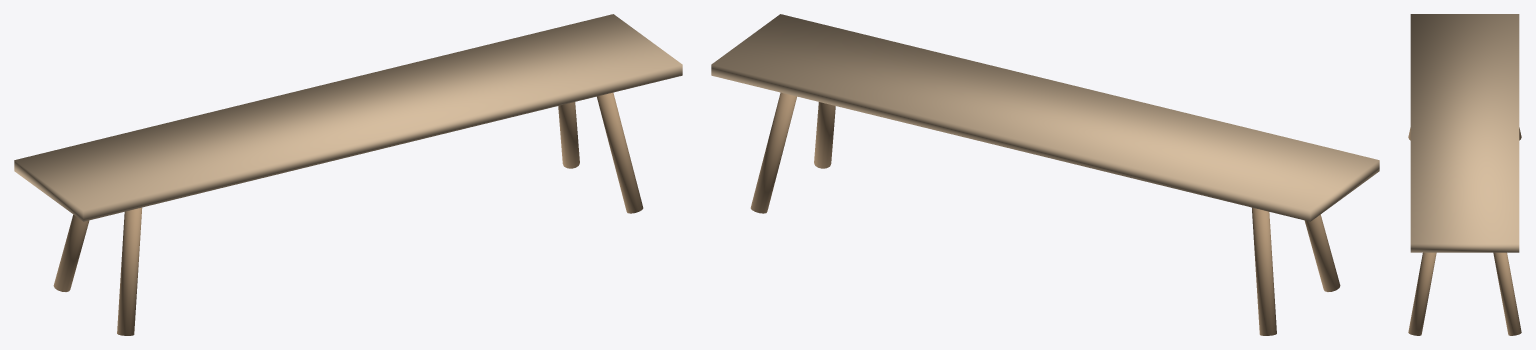
Rendered from bench_long.glb.
3 views of the same model, side by side, from view 1: azimuth 30°, elevation 25°; view 2: azimuth 150°, elevation 25°; view 3: azimuth 270°, elevation 25° (orthographic). The views are drawn at different scales.
Visible parts, largest first — view 1: Node; view 2: Node; view 3: Node.
Part boxes in pixels (<box>): Node: <box>14,14,682,335</box>; Node: <box>711,14,1379,335</box>; Node: <box>1408,14,1521,335</box>.
Bounding box in the file's own units: 2 × 0.4409 × 0.4171.
